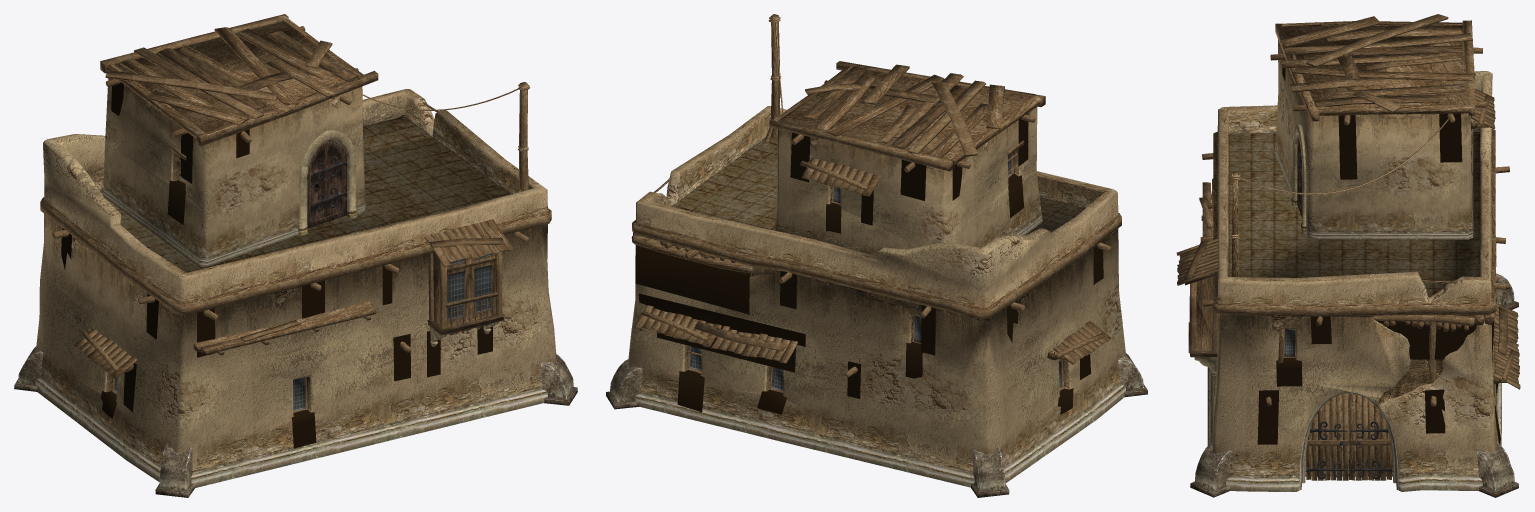
Rendered from oriental_houses_03_LOD1.obj.
3 renders of one model, left to right at view 1: azimuth 30°, elevation 25°; view 2: azimuth 150°, elevation 25°; view 3: azimuth 270°, elevation 25°, orthographic. The views are drawn at different scales.
Visible parts, largest first — view 1: oriental_houses_03_LOD1.obj; view 2: oriental_houses_03_LOD1.obj; view 3: oriental_houses_03_LOD1.obj.
Part boxes in pixels (x1=…): oriental_houses_03_LOD1.obj: x1=14, y1=14, x2=577, y2=497; oriental_houses_03_LOD1.obj: x1=606, y1=14, x2=1147, y2=497; oriental_houses_03_LOD1.obj: x1=1176, y1=14, x2=1520, y2=497.
Size of the model in its own units: 444 by 322 by 318.
13 materials, 13 textured.
